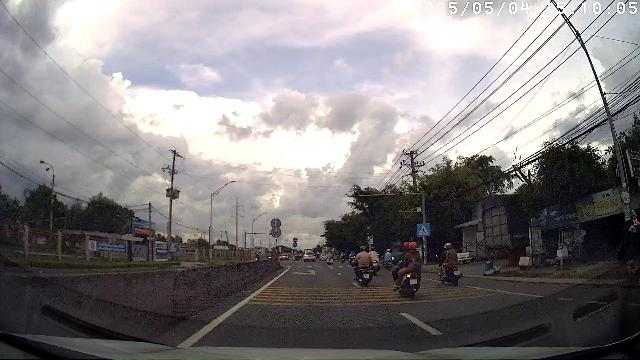102-cam-di-nguoc-chieu: (294, 238, 298, 242)
302a-huong-phai-di-vong-chuong-ngai-vat-1: (292, 243, 298, 248)
423a-duong-nguoi-di-bo-sang-ngang-1: (416, 223, 429, 236)
